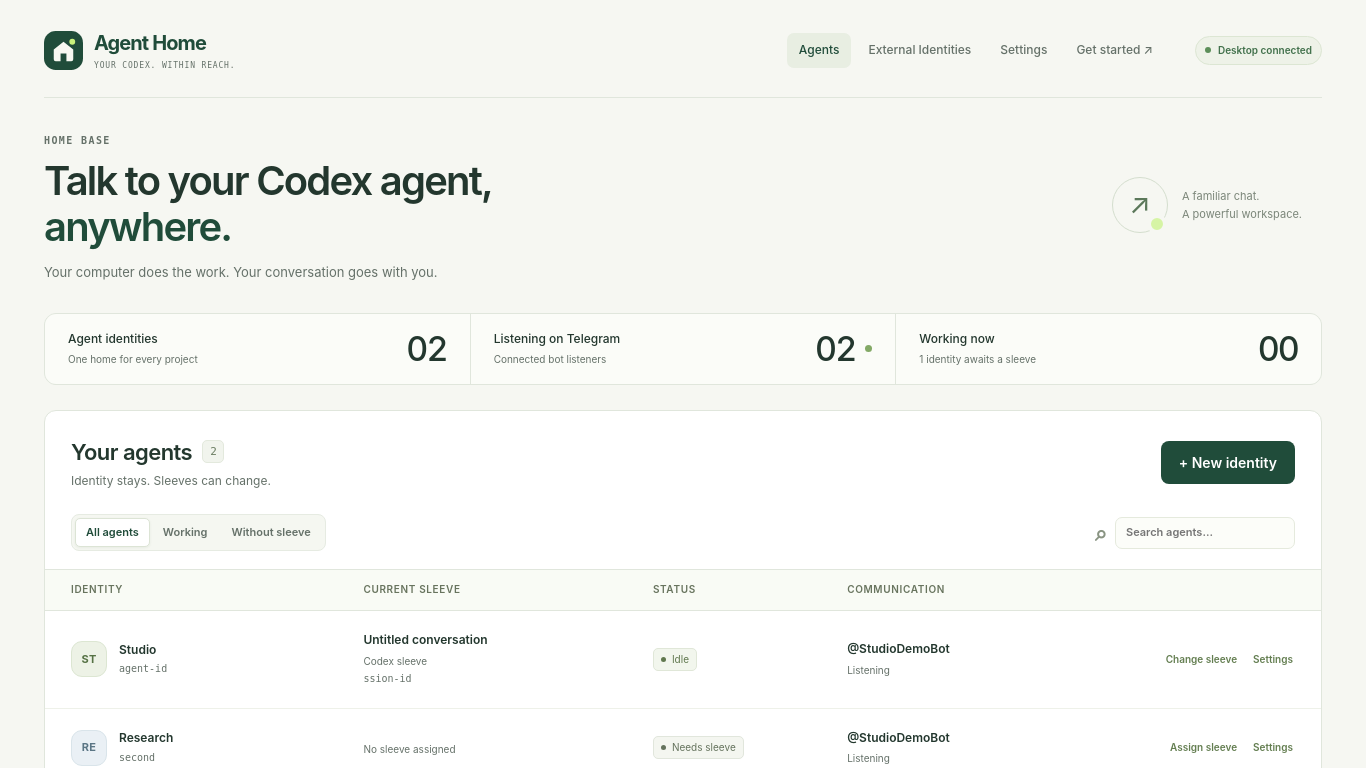
Test case: first conversation guide › filters the agent table locally and reports a disconnected desktop honestly
The image size is (1366, 768).
Type "Research" into the search field labelled "⌕" at [1205, 533], box [1115, 517, 1295, 549]
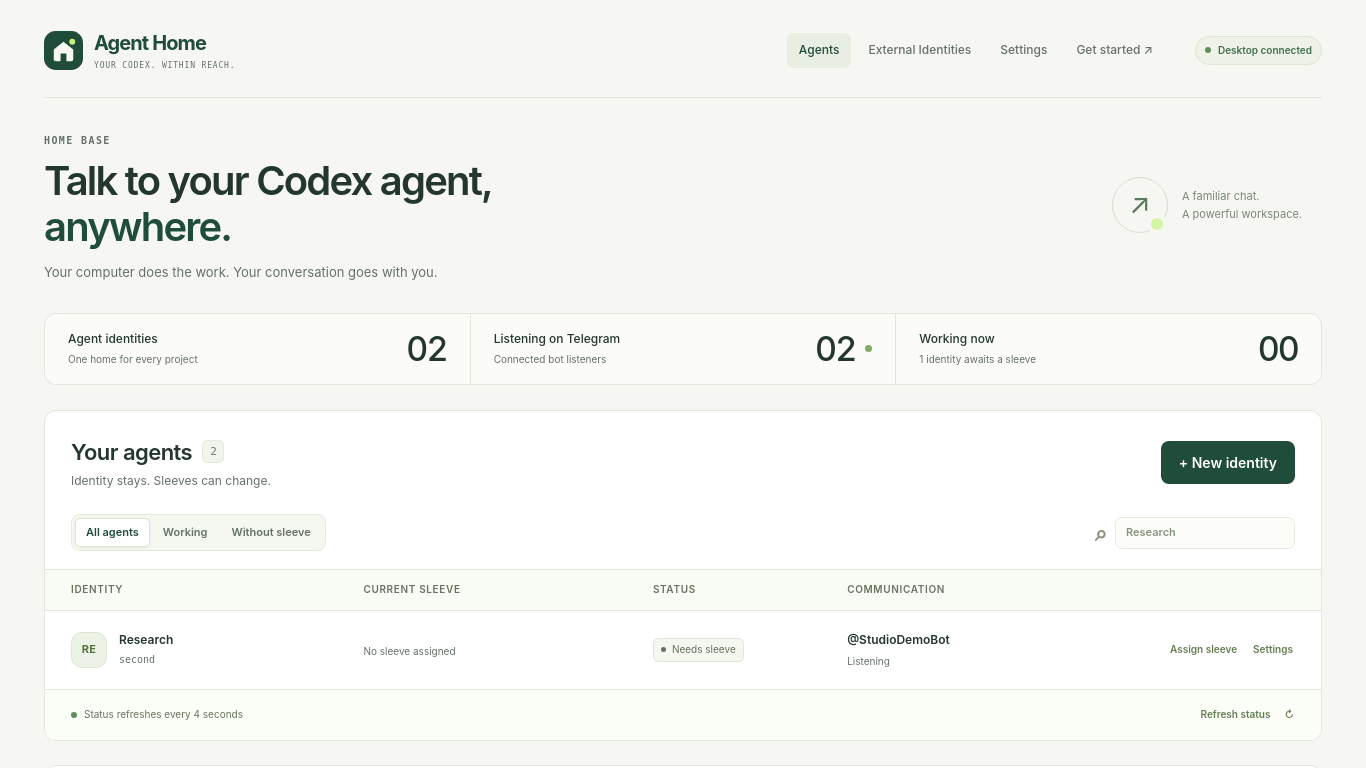
Expected: the table shows "Research", [119, 632, 173, 647]
Replace the text in the search field labelled "⌕" with "nothing" at [1205, 533], box [1115, 517, 1295, 549]
(page scrolled)
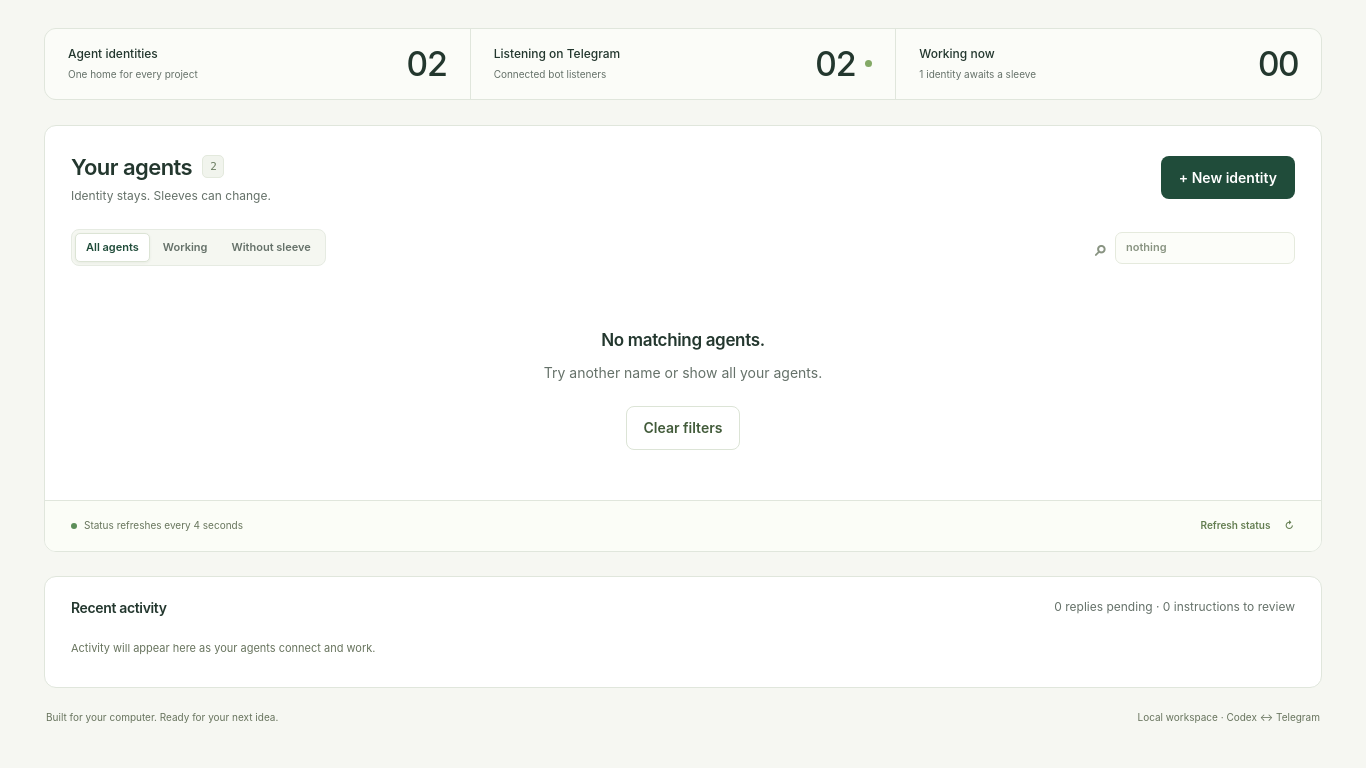
Expected: the text "No matching agents." is shown, [601, 330, 765, 350]
Click the button "Refresh status ↻" at [1247, 526], box [1200, 513, 1295, 539]
(page scrolled)
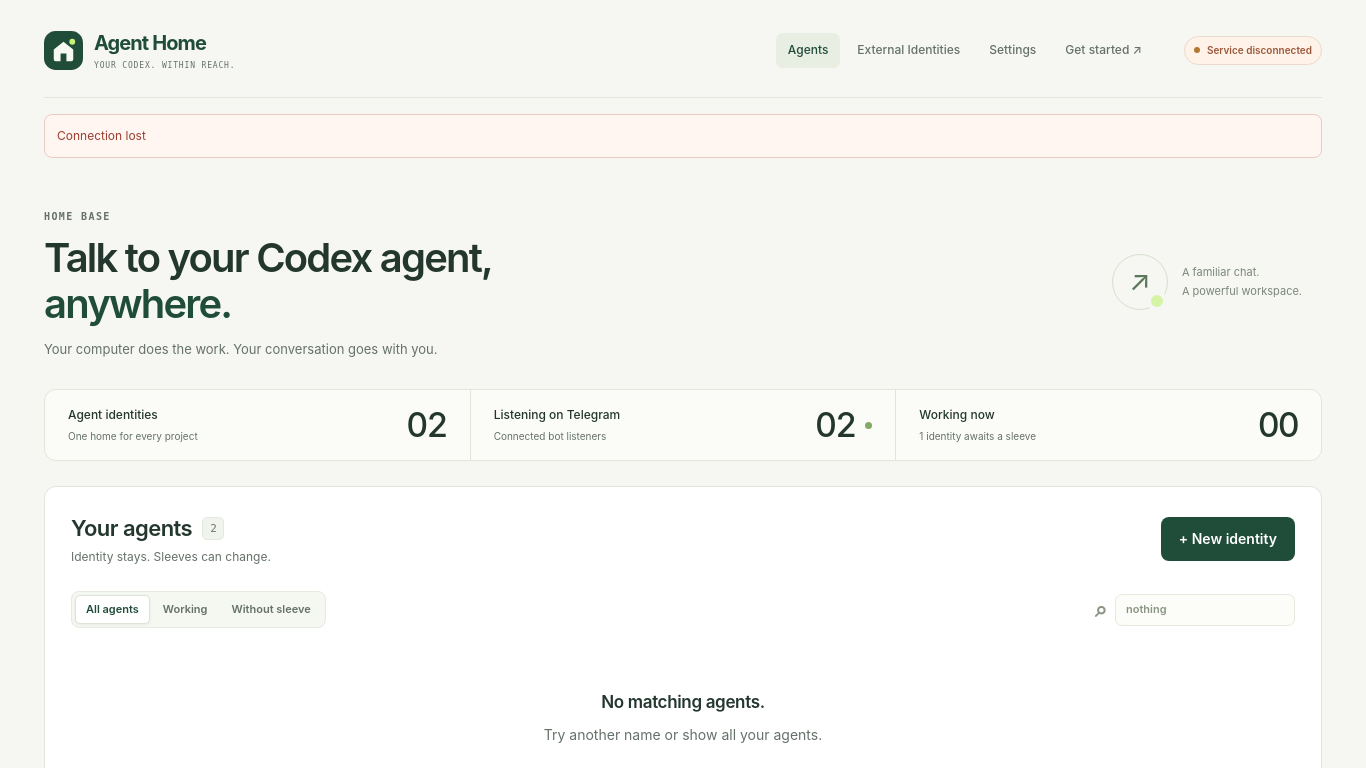
Expected: the message with class "service-status" reads "Service disconnected", [1207, 44, 1312, 56]
